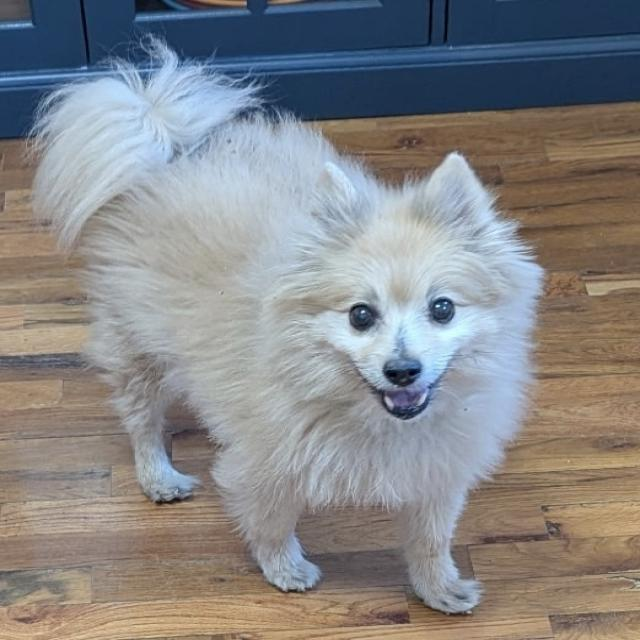pomeranian_dog: (253, 144, 539, 466)
